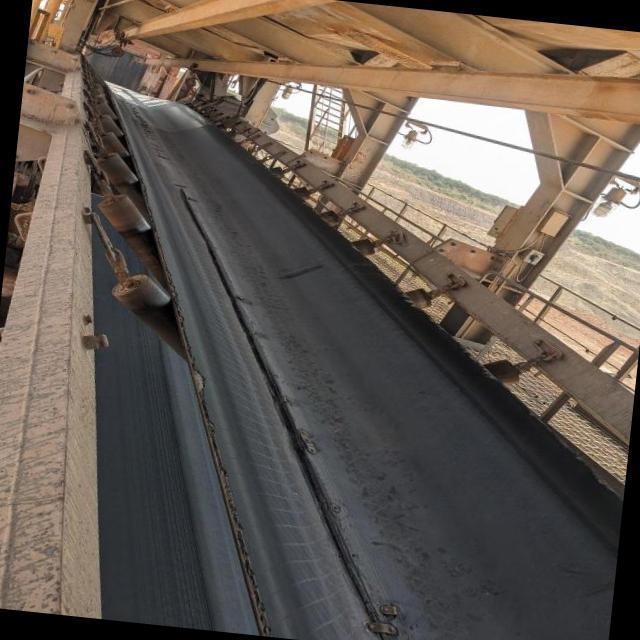Tear: (174, 175, 392, 640)
